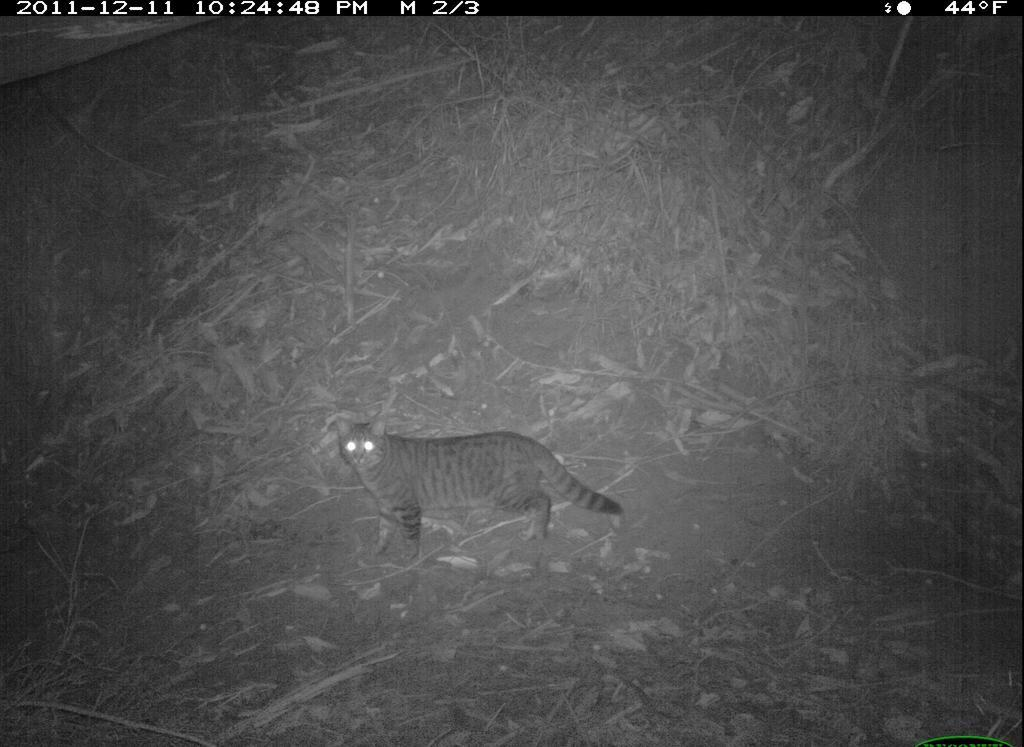cat: (328, 406, 637, 580)
